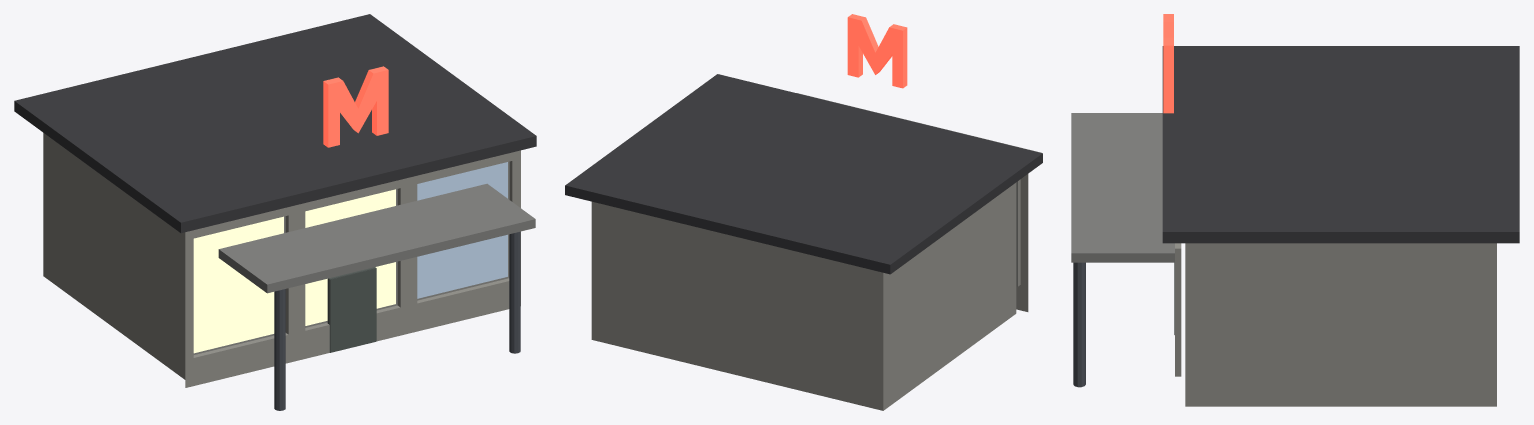
The model's file is metro_entrance.glb.
The picture shows the model from 3 angles, left to right: view 1: azimuth 30°, elevation 25°; view 2: azimuth 150°, elevation 25°; view 3: azimuth 270°, elevation 25°; orthographic projection. The views are drawn at different scales.
Visible parts, largest first — view 1: roof, shopfront, mass, canopy, door, letter_M, canopy_post.001, canopy_post; view 2: mass, roof, letter_M, shopfront; view 3: roof, mass, canopy, canopy_post.001, letter_M, shopfront.
Part boxes in pixels (x1=…): roof: x1=14, y1=14, x2=536, y2=233; shopfront: x1=185, y1=150, x2=520, y2=387; mass: x1=43, y1=133, x2=185, y2=379; canopy: x1=218, y1=183, x2=535, y2=293; door: x1=327, y1=267, x2=376, y2=352; letter_M: x1=323, y1=66, x2=388, y2=147; canopy_post.001: x1=509, y1=231, x2=520, y2=353; canopy_post: x1=274, y1=289, x2=285, y2=410; mass: x1=591, y1=182, x2=1016, y2=410; roof: x1=565, y1=74, x2=1042, y2=274; letter_M: x1=847, y1=14, x2=907, y2=88; shopfront: x1=1016, y1=174, x2=1028, y2=311; roof: x1=1162, y1=46, x2=1519, y2=243; mass: x1=1185, y1=243, x2=1496, y2=406; canopy: x1=1071, y1=113, x2=1174, y2=262; canopy_post.001: x1=1073, y1=262, x2=1085, y2=387; letter_M: x1=1163, y1=14, x2=1173, y2=113; shopfront: x1=1175, y1=243, x2=1181, y2=376.
Size of what is drawn, in the model's own units: 10.6 by 7.8 by 10.8.
